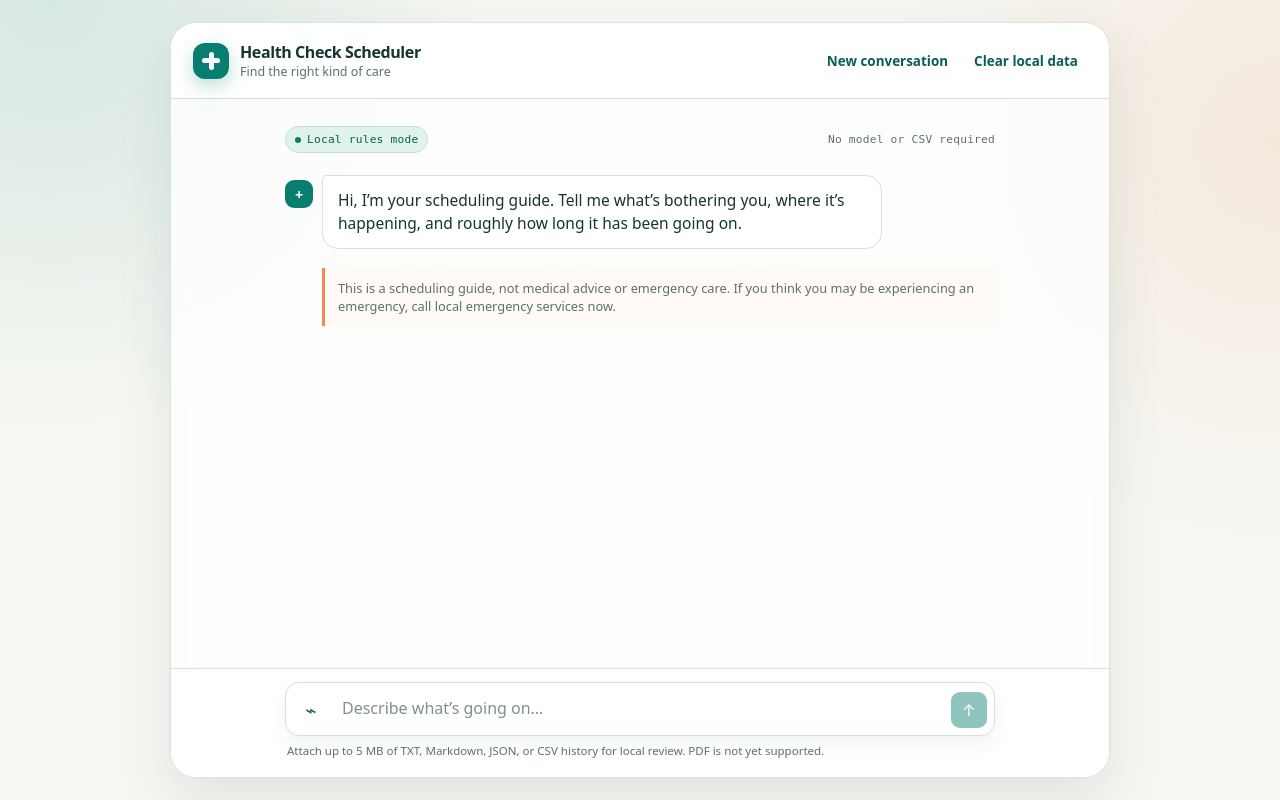
Test case: chat scheduler prototype › uses validated model wording with an application-owned follow-up
Type "I have had an itchy rash for three days" into the text box named "Describe your concern" at [640, 709], box [337,690,943,728]
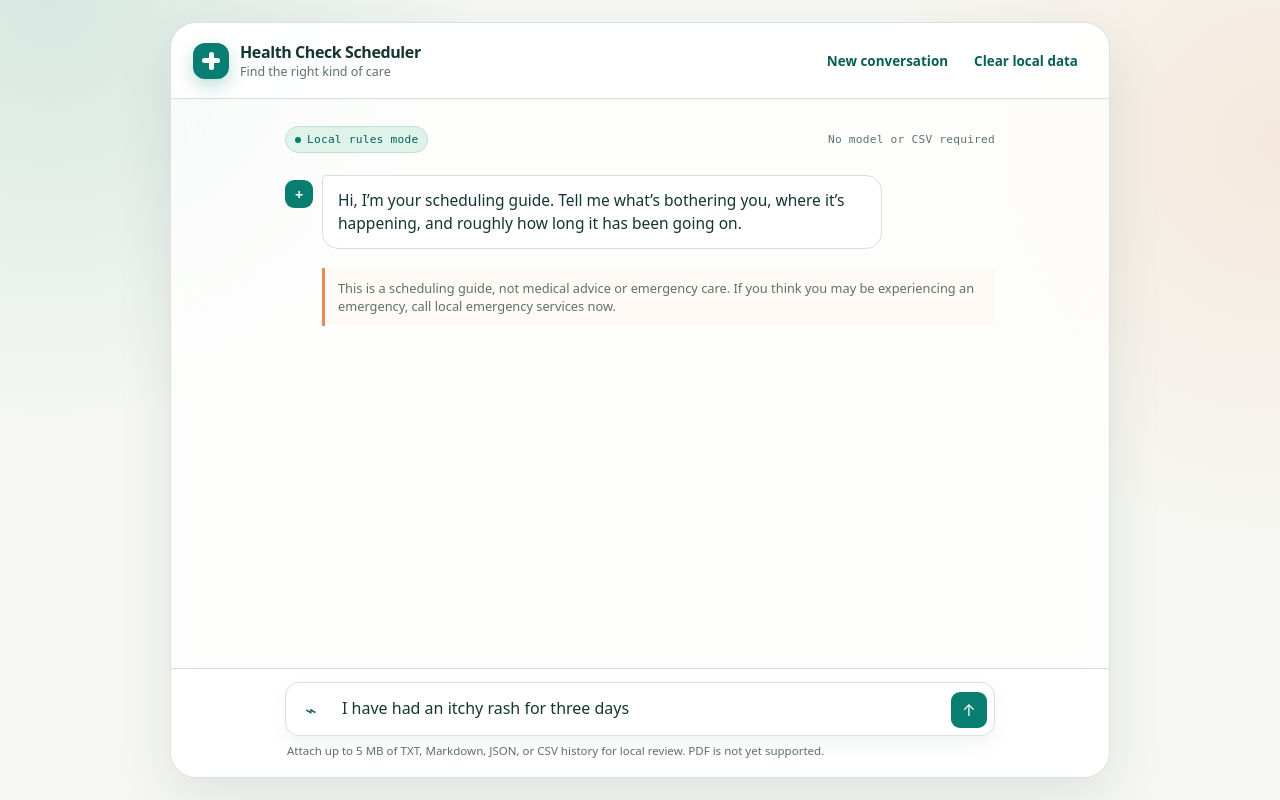
Submit the form named "Describe your concern", box [285,682,995,758]
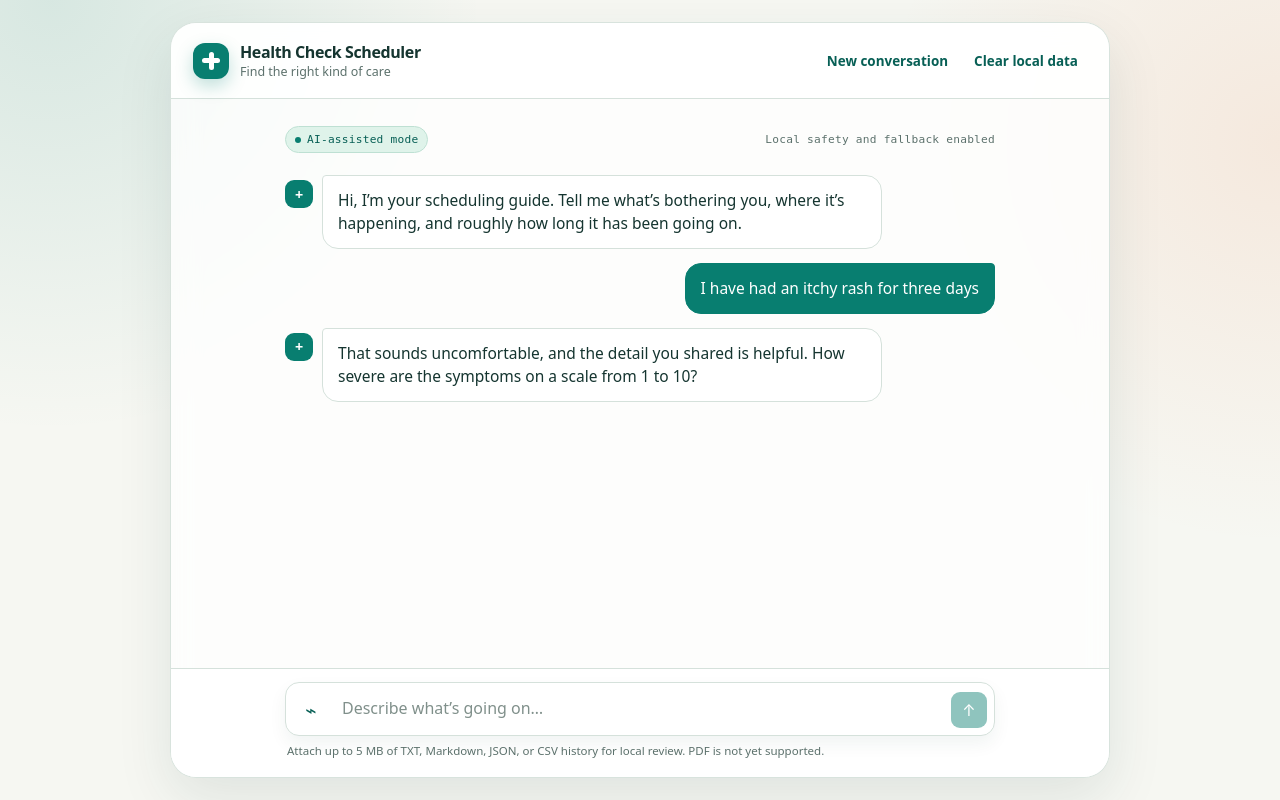
Expected: the text "AI-assisted mode" is shown, [285,126,428,153]
